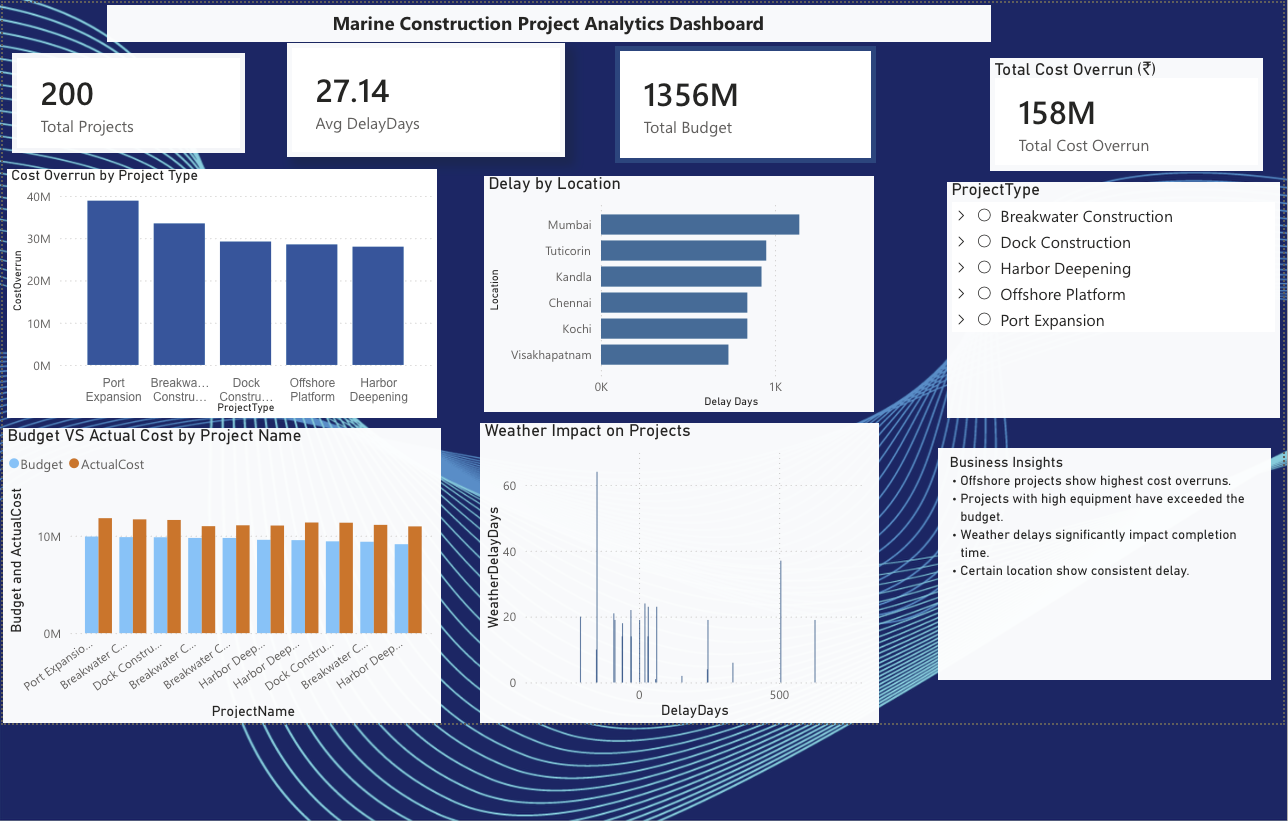

What the dashboard file says about the page in this screenshot:
{"tool":"powerbi","page":{"name":"Page 1","canvas":[1280,720],"ordinal":0},"visuals":[{"type":"cardVisual","fields":{"Data":["CountNonNull(marine_projects.ProjectID)"]},"box":[7.9,7.9,282,116.2],"z":0},{"type":"cardVisual","fields":{"Data":["Sum(marine_projects.Avg Delay Days)"]},"box":[309.8,11.9,278,114.2],"z":1000},{"type":"cardVisual","fields":{"Data":["Sum(marine_projects.Budget)"]},"box":[612.7,8.9,305.8,123.1],"z":2000},{"type":"cardVisual","fields":{"Data":["Sum(marine_projects.CostOverrun)"]},"box":[938.4,11.9,321.7,117.2],"z":3000},{"type":"columnChart","fields":{"Category":["marine_projects.ProjectType"],"Y":["Sum(marine_projects.CostOverrun)"]},"box":[10.9,140,430,249.2],"z":4000},{"type":"barChart","title":"Delay  by Location","fields":{"Category":["marine_projects.Location"],"Y":["Avg(marine_projects.Avg Delay Days)"]},"box":[492.5,146,390.3,236.3],"z":5000},{"type":"clusteredColumnChart","title":"Budget VS ActualCost by ProjectName","fields":{"Category":["marine_projects.ProjectName"],"Y":["Sum(marine_projects.Budget)","Sum(marine_projects.ActualCost)"]},"box":[17.9,410.1,426,297.9],"z":6000},{"type":"columnChart","title":"Weather Impact","fields":{"Category":["marine_projects.DelayDays"],"Y":["Sum(marine_projects.WeatherDelayDays)"]},"box":[482.6,406.1,399.2,299.9],"z":7000},{"type":"listSlicer","fields":{"Values":["marine_projects.ProjectType","marine_projects.Location","marine_projects.Contractor"]},"box":[942.4,162.9,332.7,236.3],"z":7001},{"type":"textbox","box":[935.4,439.9,332.7,232.4],"z":7002}]}

Visuals, with their boxes in screenshot pixels (x1, y1, x2, y2):
cardVisual - CountNonNull(marine_projects.ProjectID): {"left": 4, "top": 35, "right": 284, "bottom": 150}
cardVisual - Sum(marine_projects.Avg Delay Days): {"left": 304, "top": 39, "right": 580, "bottom": 152}
cardVisual - Sum(marine_projects.Budget): {"left": 605, "top": 36, "right": 908, "bottom": 158}
cardVisual - Sum(marine_projects.CostOverrun): {"left": 928, "top": 39, "right": 1247, "bottom": 155}
columnChart - marine_projects.ProjectType x Sum(marine_projects.CostOverrun): {"left": 7, "top": 166, "right": 434, "bottom": 413}
"Delay  by Location" barChart: {"left": 485, "top": 172, "right": 873, "bottom": 406}
"Budget VS ActualCost by ProjectName" clusteredColumnChart: {"left": 14, "top": 434, "right": 437, "bottom": 729}
"Weather Impact" columnChart: {"left": 476, "top": 430, "right": 872, "bottom": 727}
listSlicer - marine_projects.ProjectType x marine_projects.Location: {"left": 932, "top": 188, "right": 1262, "bottom": 423}
textbox: {"left": 925, "top": 463, "right": 1255, "bottom": 694}
